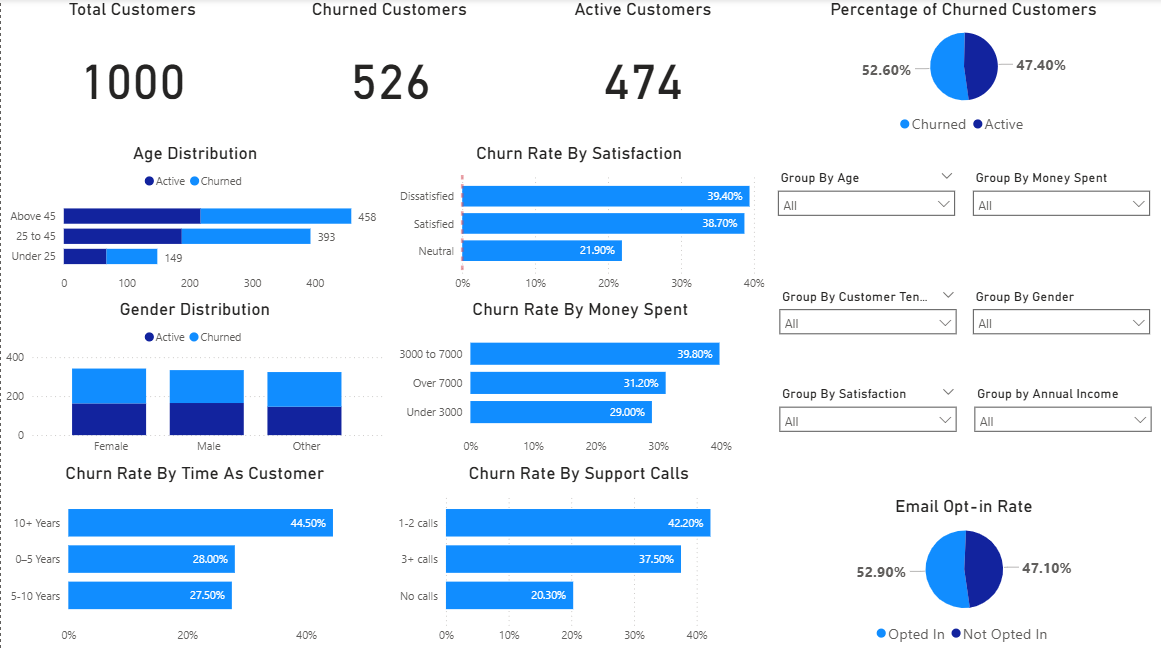

The page's visual inventory and layout, read from the dashboard file:
{"tool":"powerbi","page":{"name":"Page 1","canvas":[1280,720],"ordinal":0},"visuals":[{"type":"card","title":"Total Customers","fields":{"Values":["CountNonNull(online_retail_customer_churn.Customer_ID)"]},"box":[0,0,290,146.7],"z":0},{"type":"card","title":"Churned Customers","fields":{"Values":["CountNonNull(online_retail_customer_churn.Customer_ID)"]},"box":[290,0,278.3,146.7],"z":1000},{"type":"card","title":"Active Customers","fields":{"Values":["CountNonNull(online_retail_customer_churn.Customer_ID)"]},"box":[568.3,0,281.7,146.7],"z":2000},{"type":"barChart","title":"Age Distribution","fields":{"Y":["CountNonNull(online_retail_customer_churn.Customer_ID)"],"Category":["online_retail_customer_churn.Age_Group"],"Series":["online_retail_customer_churn.Churn_status"]},"box":[0,159,429,172.3],"z":4000},{"type":"columnChart","title":"Gender Distribution","fields":{"Category":["online_retail_customer_churn.Gender"],"Y":["CountNonNull(online_retail_customer_churn.Customer_ID)"],"Series":["online_retail_customer_churn.Churn_status"]},"box":[0,331.7,428.3,180],"z":5000},{"type":"barChart","title":"Churn Rate By Satisfaction","fields":{"Category":["online_retail_customer_churn.Satisfaction_group"],"Y":["CountNonNull(online_retail_customer_churn.Target_Churn)"]},"box":[429,159,419.1,172.3],"z":7000},{"type":"barChart","title":"Churn Rate By Money Spent","fields":{"Y":["CountNonNull(online_retail_customer_churn.Churn_status)"],"Category":["online_retail_customer_churn.Spend_Group"]},"box":[428.3,331.7,421.7,180],"z":8000},{"type":"pieChart","title":"Email Opt-in Rate","fields":{"Category":["online_retail_customer_churn.Email_Opt_in_Status"],"Y":["CountNonNull(online_retail_customer_churn.Customer_ID)"]},"box":[848.1,548.3,430.7,172.3],"z":10000},{"type":"slicer","fields":{"Values":["online_retail_customer_churn.Age_Group"]},"box":[848.1,183.9,215.3,120.9],"z":11000},{"type":"slicer","fields":{"Values":["online_retail_customer_churn.Years_as_Customer_grouped"]},"box":[849.8,314.7,215.3,91.1],"z":12000},{"type":"slicer","fields":{"Values":["online_retail_customer_churn.Satisfaction_group"]},"box":[849.8,422.4,215.3,89.4],"z":13000},{"type":"slicer","fields":{"Values":["online_retail_customer_churn.Income_group"]},"box":[1065.1,422.4,215.3,89.4],"z":14000},{"type":"slicer","fields":{"Values":["online_retail_customer_churn.Gender"]},"box":[1063.5,314.7,215.3,91.1],"z":15000},{"type":"slicer","fields":{"Values":["online_retail_customer_churn.Spend_Group"]},"box":[1063.5,183.9,215.3,120.9],"z":16000},{"type":"barChart","title":"Churn Rate By Time As Customer","fields":{"Category":["online_retail_customer_churn.Years_as_Customer_grouped"],"Y":["CountNonNull(online_retail_customer_churn.Churn_status)"]},"box":[0,511.7,428.3,208.3],"z":16500},{"type":"pieChart","title":"Percentage of Churned Customers","fields":{"Category":["online_retail_customer_churn.Churn_status"],"Y":["Divide(CountNonNull(online_retail_customer_churn.Customer_ID), ScopedEval(CountNonNull(online_retail_customer_churn.Cust"]},"box":[848.3,0,430,158.3],"z":17000},{"type":"clusteredBarChart","title":"Churn Rate By Support Calls","fields":{"Category":["online_retail_customer_churn.Amount_of_Support_Calls"],"Y":["CountNonNull(online_retail_customer_churn.Target_Churn)"]},"box":[428.3,511.7,418.3,208.3],"z":17500}]}

Visuals, with their boxes in screenshot pixels (x1, y1, x2, y2), scaled from the page's 1280x720 canvas onto the 1161x651 screenshot:
"Total Customers" card: select_region(0, 0, 263, 133)
"Churned Customers" card: select_region(263, 0, 515, 133)
"Active Customers" card: select_region(515, 0, 771, 133)
"Age Distribution" barChart: select_region(0, 144, 389, 300)
"Gender Distribution" columnChart: select_region(0, 300, 388, 463)
"Churn Rate By Satisfaction" barChart: select_region(389, 144, 769, 300)
"Churn Rate By Money Spent" barChart: select_region(388, 300, 771, 463)
"Email Opt-in Rate" pieChart: select_region(769, 496, 1160, 650)
slicer - online_retail_customer_churn.Age_Group: select_region(769, 166, 965, 276)
slicer - online_retail_customer_churn.Years_as_Customer_grouped: select_region(771, 285, 966, 367)
slicer - online_retail_customer_churn.Satisfaction_group: select_region(771, 382, 966, 463)
slicer - online_retail_customer_churn.Income_group: select_region(966, 382, 1160, 463)
slicer - online_retail_customer_churn.Gender: select_region(965, 285, 1160, 367)
slicer - online_retail_customer_churn.Spend_Group: select_region(965, 166, 1160, 276)
"Churn Rate By Time As Customer" barChart: select_region(0, 463, 388, 650)
"Percentage of Churned Customers" pieChart: select_region(769, 0, 1159, 143)
"Churn Rate By Support Calls" clusteredBarChart: select_region(388, 463, 768, 650)
